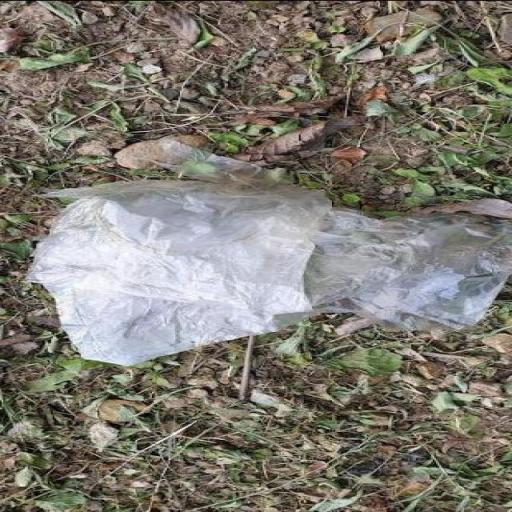plastic-bag: (21, 140, 512, 365)
